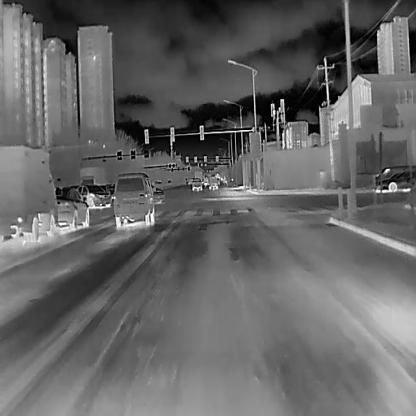car: (114, 172, 155, 224), (54, 187, 88, 231), (374, 165, 412, 188), (75, 184, 111, 208), (377, 171, 415, 190), (190, 177, 202, 191), (207, 176, 219, 190)
truck: (0, 144, 59, 242)
